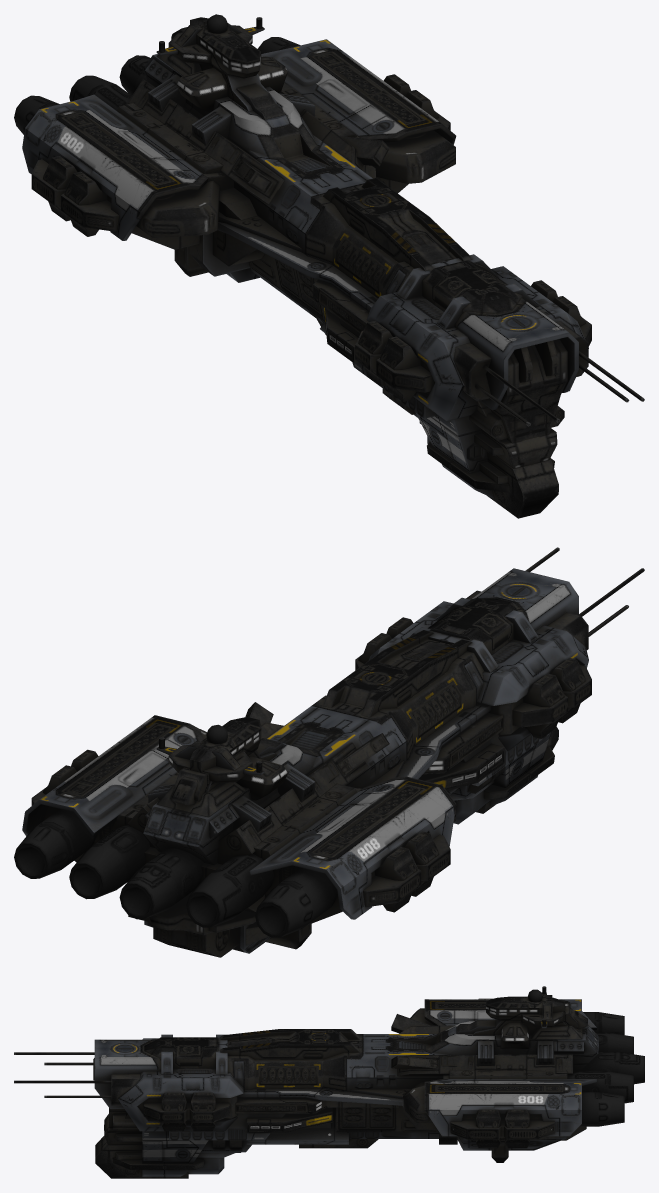
File: Harbinger.FBX
3 renders of one model, top to bottom at view 1: azimuth 30°, elevation 25°; view 2: azimuth 150°, elevation 25°; view 3: azimuth 270°, elevation 25°, orthographic. The views are drawn at different scales.
Visible parts, largest first — view 1: Harbinger; view 2: Harbinger; view 3: Harbinger.
Boxes of the visible parts, left/top/right/bottom form: Harbinger: left=14, top=14, right=644, bottom=518; Harbinger: left=14, top=547, right=644, bottom=957; Harbinger: left=14, top=986, right=644, bottom=1178.
Bounding box in the file's own units: 65.72 × 46.65 × 144.
